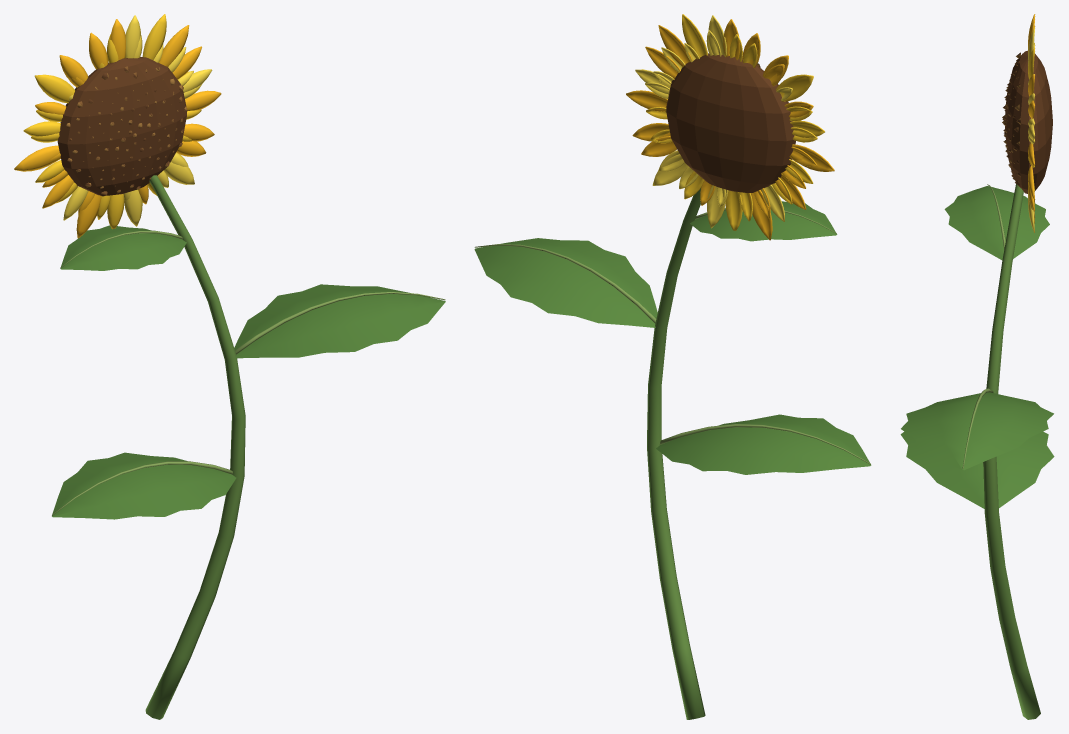
The model's file is sunflower-v2-bloom-3-2.glb.
The picture shows the model from 3 angles, left to right: view 1: azimuth 30°, elevation 25°; view 2: azimuth 150°, elevation 25°; view 3: azimuth 270°, elevation 25°; orthographic projection. The views are drawn at different scales.
Visible parts, largest first — view 1: Curved tapered stem; view 2: Curved tapered stem; view 3: Curved tapered stem.
Part boxes in pixels (x1=…): Curved tapered stem: x1=14, y1=14, x2=445, y2=719; Curved tapered stem: x1=474, y1=14, x2=871, y2=719; Curved tapered stem: x1=900, y1=14, x2=1054, y2=719.
Size of the model in its own units: 0.4161 by 0.7129 by 0.1462.
